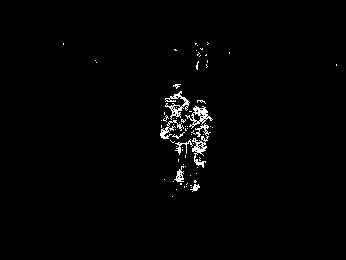person: (162, 84, 190, 182), (188, 98, 212, 193)
